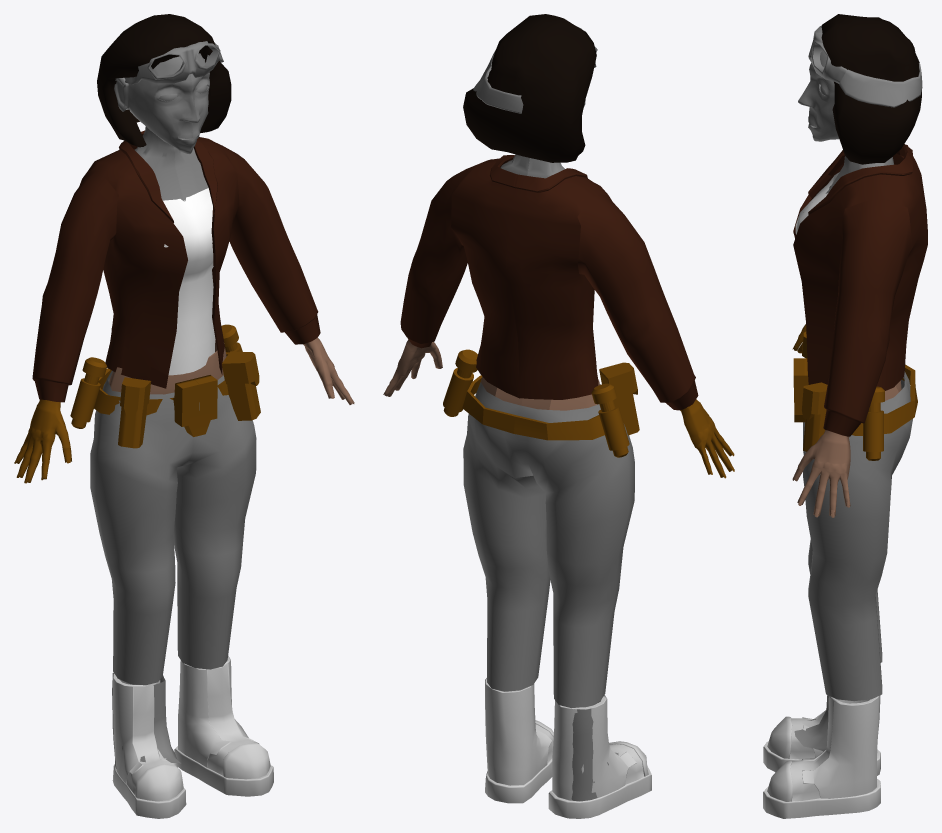
3 renders of one model, left to right at view 1: azimuth 30°, elevation 25°; view 2: azimuth 150°, elevation 25°; view 3: azimuth 270°, elevation 25°, orthographic. The views are drawn at different scales.
Visible parts, largest first — view 1: HandL1; view 2: HandL1; view 3: HandL1.
Boxes of the visible parts, x1,y1,x2,y2 form: HandL1: (14,14,354,818); HandL1: (383,14,734,818); HandL1: (763,14,927,818).
Bounding box in the file's own units: 7.1 × 15.48 × 3.02.
